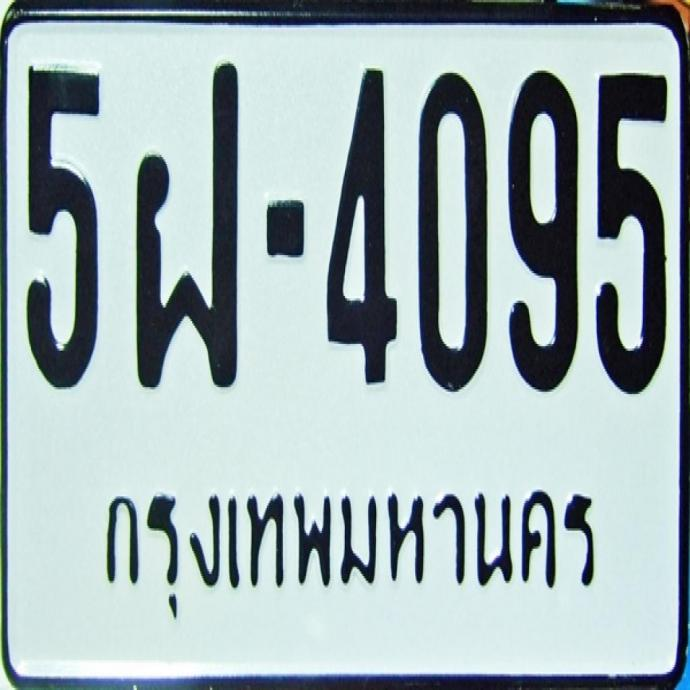0: (414, 66, 486, 388)
4: (322, 60, 395, 385)
5: (22, 64, 100, 390), (592, 66, 668, 396)
9: (506, 65, 578, 391)
A28: (130, 54, 240, 391)
BKK: (87, 457, 608, 639)
